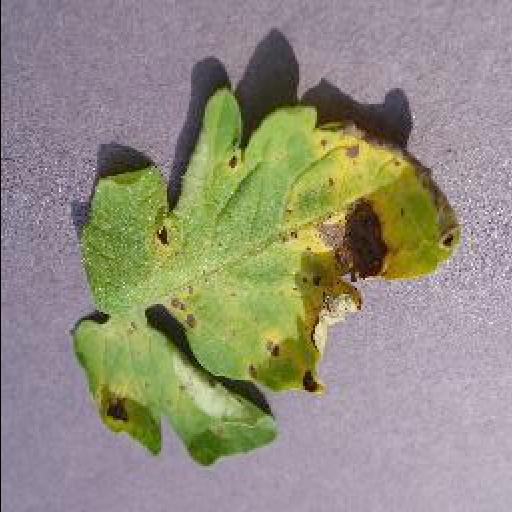disease_tomato: (64, 86, 460, 467)
